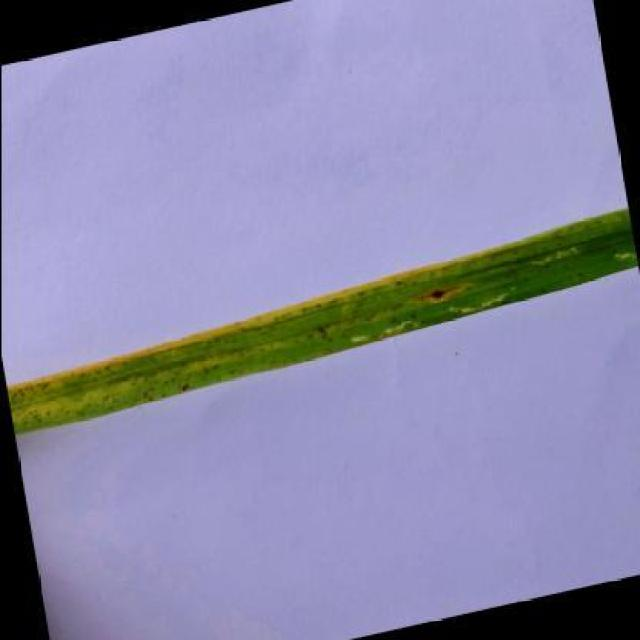Rice False Smut: (15, 208, 631, 432)
